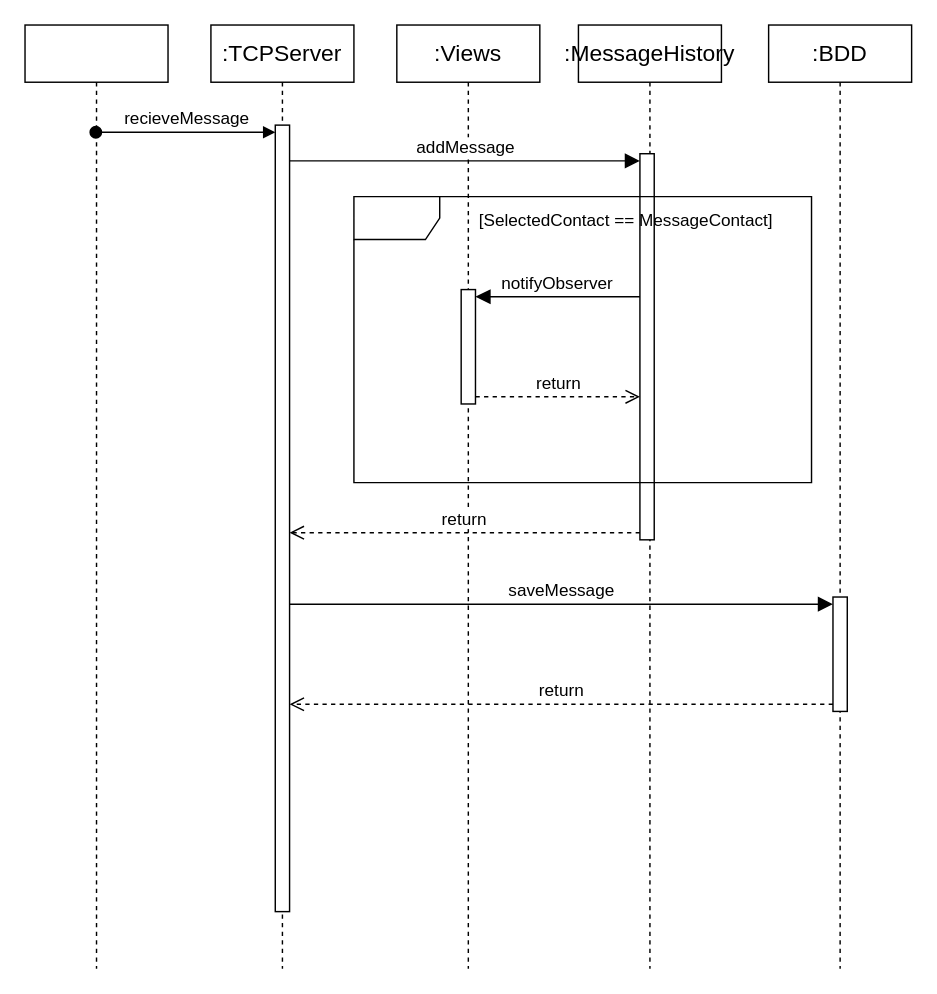
Some shapes in this 937 by 994 pixel diagram are drawn without their labels. The shapes that lost their labels are listed below. From the top down, each one's box as (x1, y1, x2, y2) in pixels, then its label:
(352, 195, 812, 483): op
(24, 24, 168, 969): :Network
